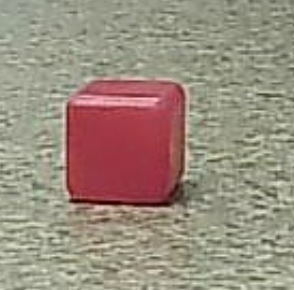red_cube: (64, 77, 191, 205)
